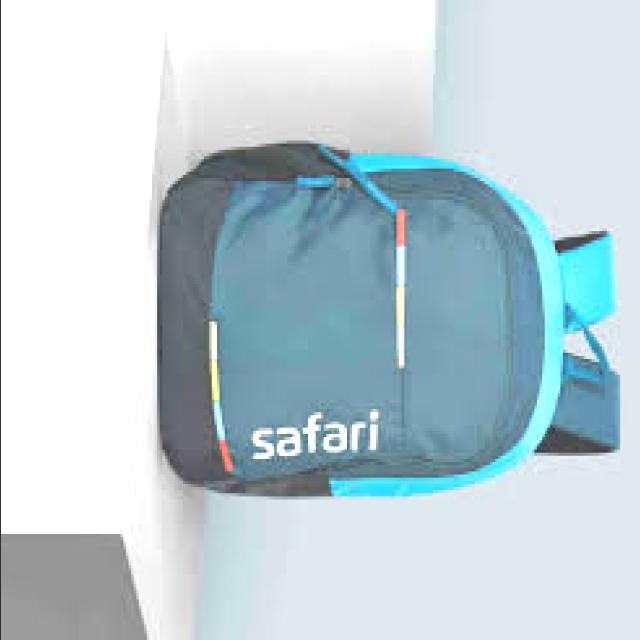backpack: (160, 142, 623, 501)
